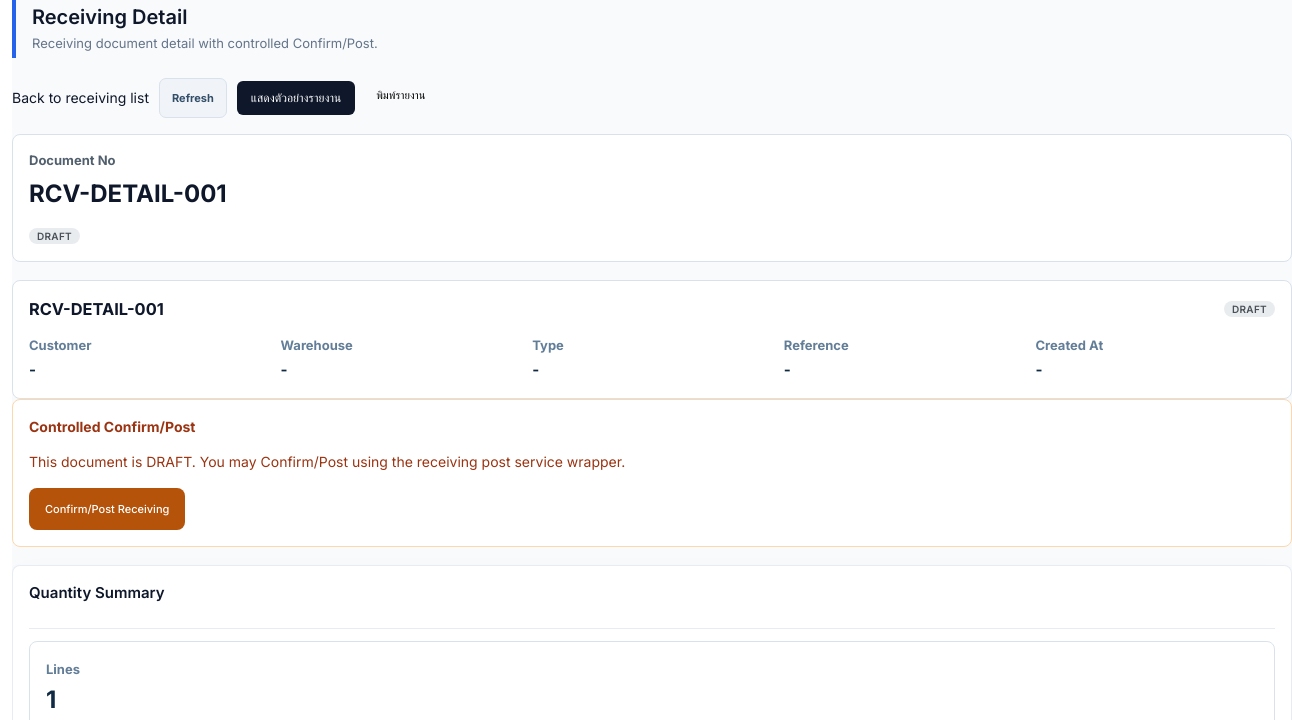
it: Sprint 13J-AG receiving UI controlled detail post flow › shows post error returned by the receiving RPC wrapper
The image size is (1292, 720).
Click the button "Confirm/Post Receiving" at (107, 509), box [29, 488, 185, 530]
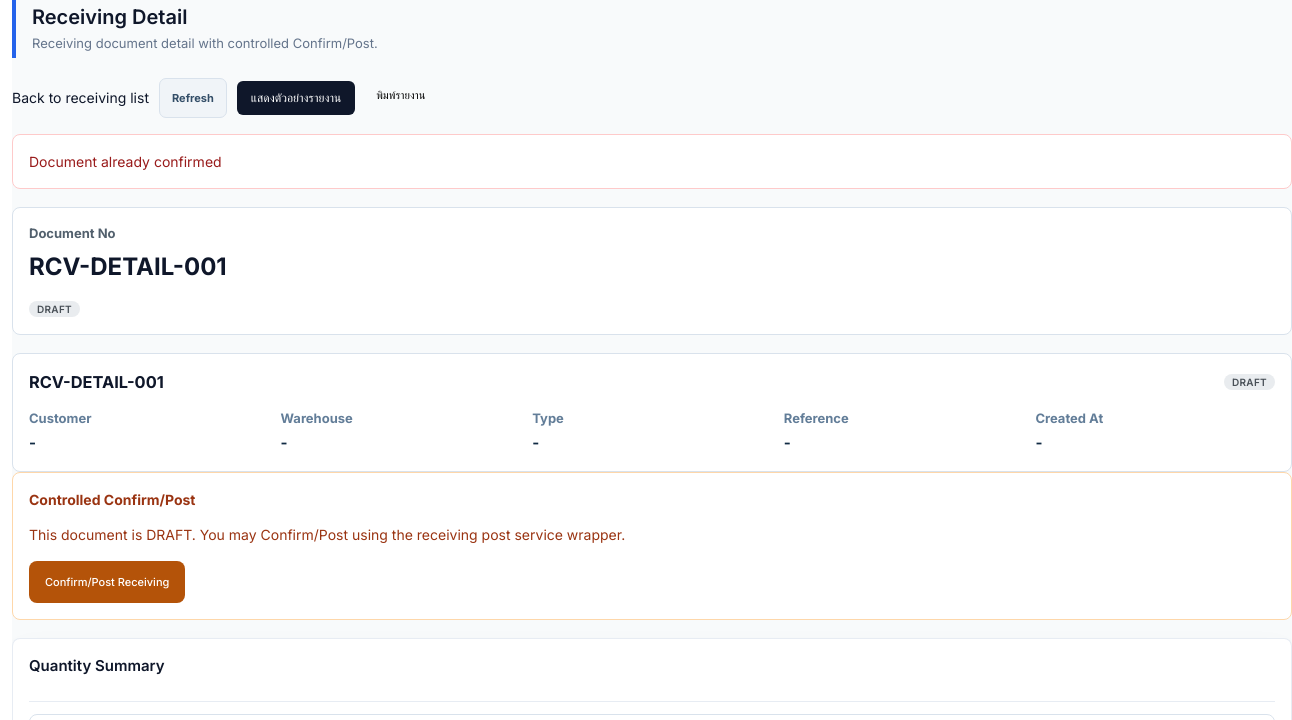
Expected: the message reads "Document already confirmed", [29, 152, 222, 170]
